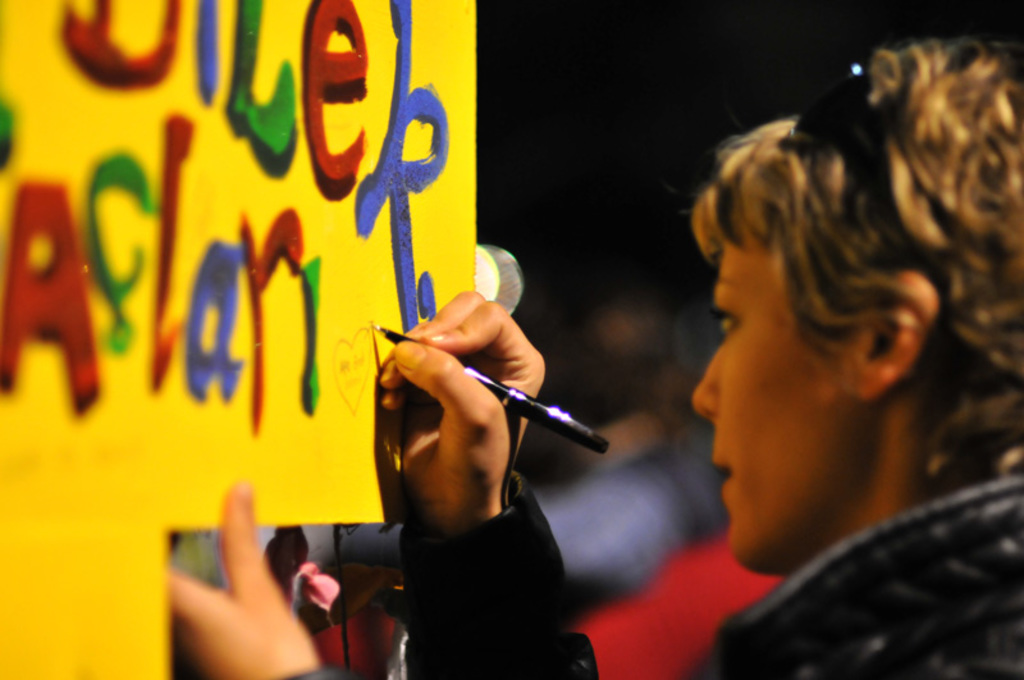Pen: (372, 323, 612, 457)
